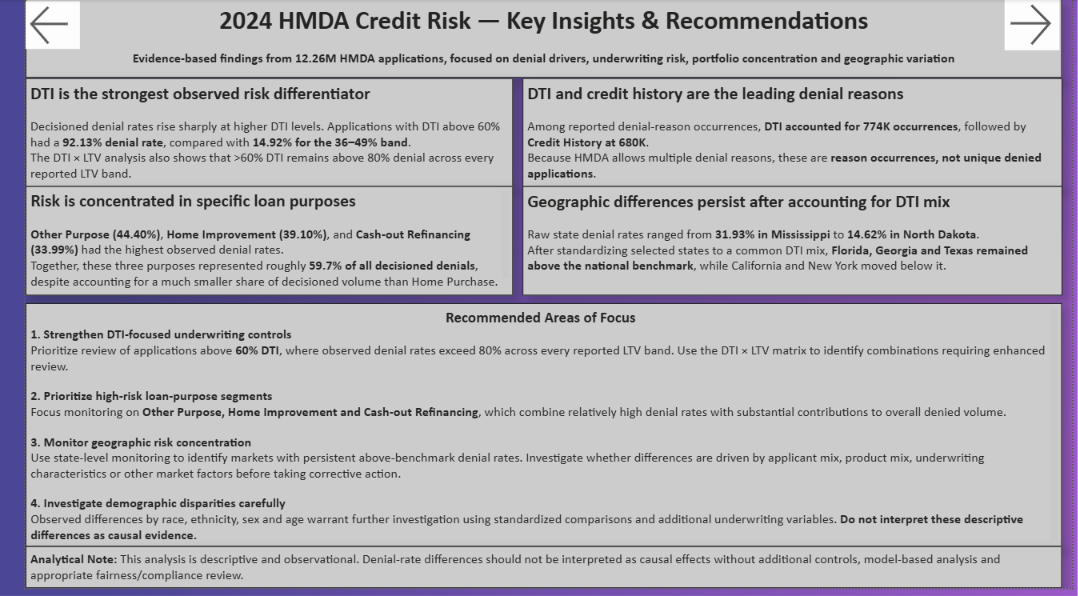

The page's visual inventory and layout, read from the dashboard file:
{"tool":"powerbi","page":{"name":"Executive Insights & Recommendations","canvas":[1280,720],"ordinal":2},"visuals":[{"type":"textbox","box":[0,0,1267.5,96.2],"z":0},{"type":"textbox","box":[0,96.2,596.2,132.5],"z":1000},{"type":"textbox","box":[0,228.8,596.2,133.8],"z":2000},{"type":"textbox","box":[607.5,96.2,660,132.5],"z":3000},{"type":"textbox","box":[607.5,228.8,660,133.8],"z":4000},{"type":"textbox","box":[0,371.2,1267.5,297.5],"z":5000},{"type":"textbox","box":[0,668.8,1267.5,51.2],"z":6000},{"type":"actionButton","box":[1197.2,0,67.3,62.4],"z":7000},{"type":"actionButton","box":[0,2.4,66,58.7],"z":8000}]}

Visuals, with their boxes in screenshot pixels (x1, y1, x2, y2), scaled from the page's 1280x720 canvas onto the 1078x596 screenshot:
textbox: 0:0:1067:80
textbox: 0:80:502:189
textbox: 0:189:502:300
textbox: 512:80:1067:189
textbox: 512:189:1067:300
textbox: 0:307:1067:554
textbox: 0:554:1067:595
actionButton: 1008:0:1065:52
actionButton: 0:2:56:51
